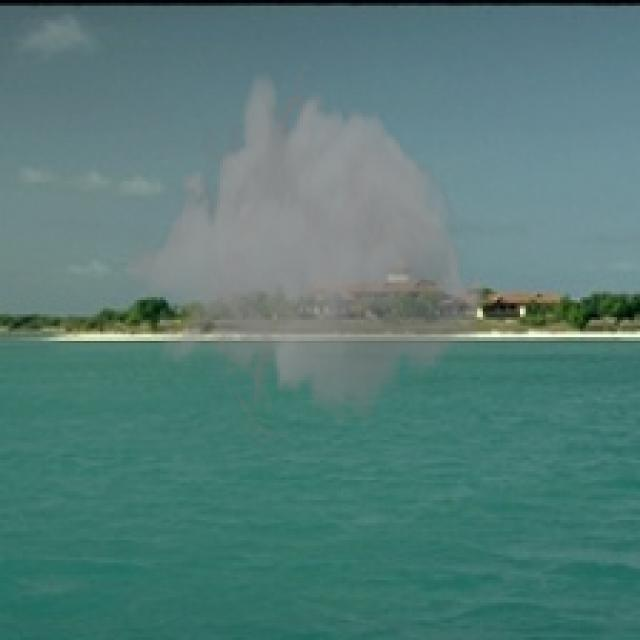Smoke: (122, 57, 488, 457)
